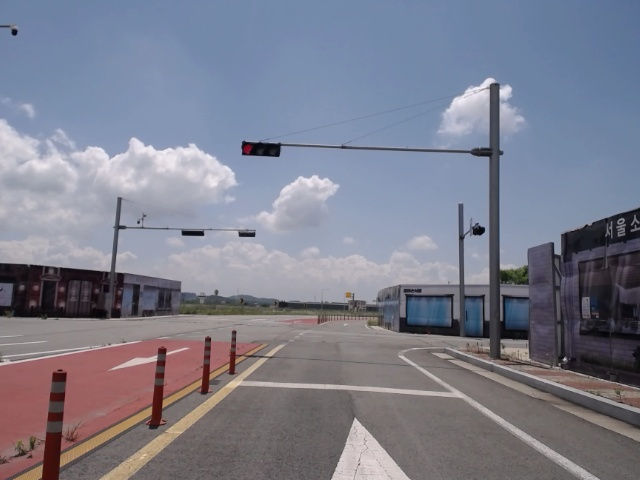red_3: (238, 140, 284, 156)
